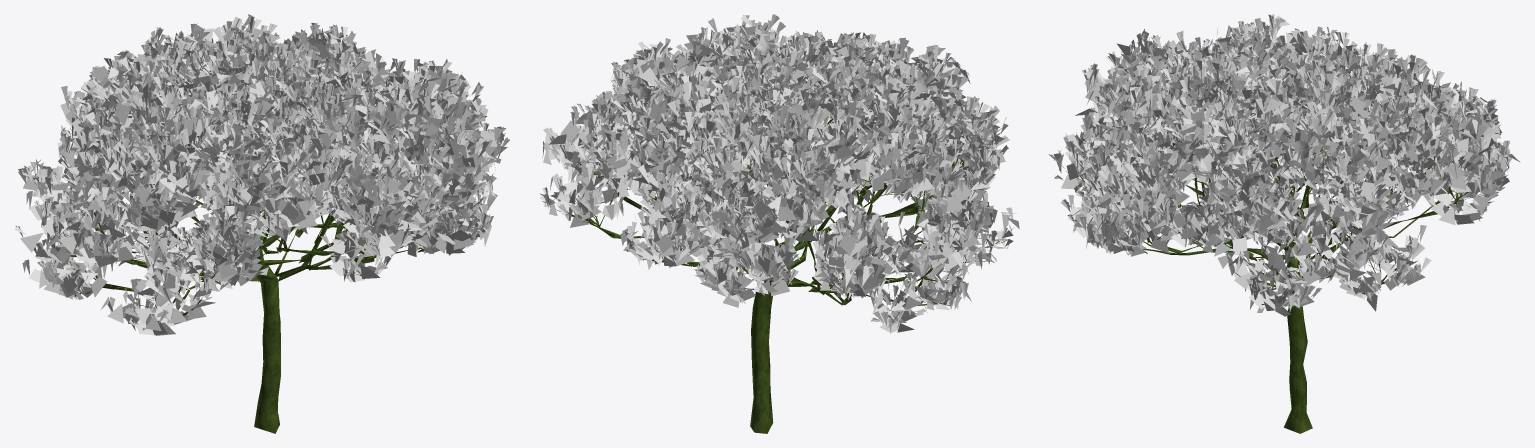
Rendered from wukong-pinus-original.glb.
The picture shows the model from 3 angles, left to right: view 1: azimuth 30°, elevation 25°; view 2: azimuth 150°, elevation 25°; view 3: azimuth 270°, elevation 25°; orthographic projection. The views are drawn at different scales.
Visible parts, largest first — view 1: wukong-pinus-original; view 2: wukong-pinus-original; view 3: wukong-pinus-original.
Boxes of the visible parts, box(x1,y1,x2,y2) form: wukong-pinus-original: box(14, 14, 509, 433); wukong-pinus-original: box(539, 14, 1019, 433); wukong-pinus-original: box(1048, 14, 1520, 433).
Size of the model in its own units: 10.03 by 7.96 by 9.19.
Materials: 2 (1 with a texture image).
